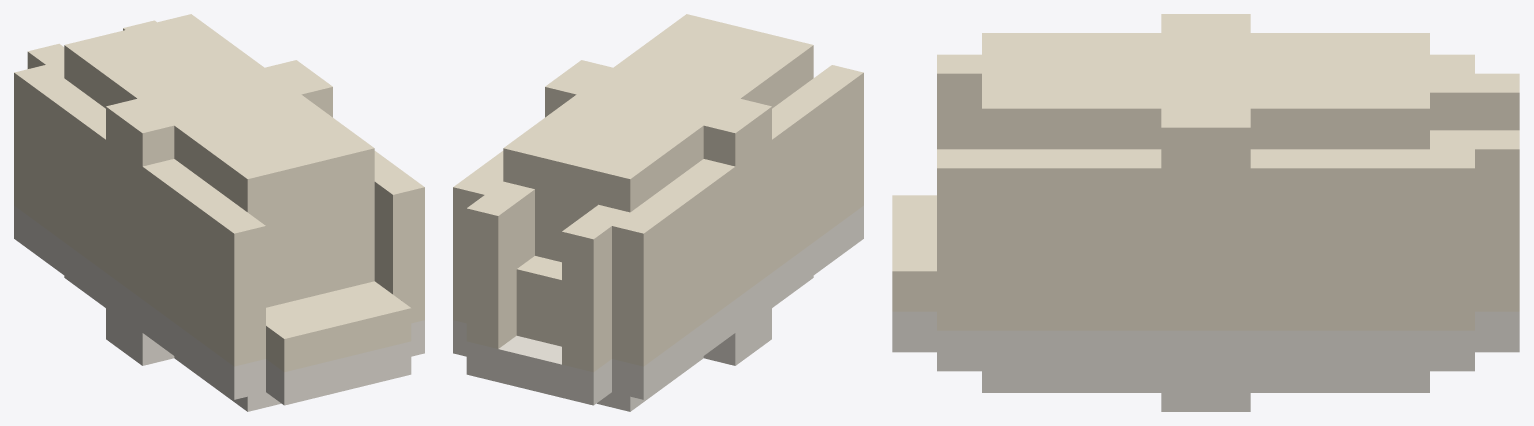
The model's file is arctic_fox__body.obj.
3 views of the same model, side by side, from view 1: azimuth 30°, elevation 25°; view 2: azimuth 150°, elevation 25°; view 3: azimuth 270°, elevation 25° (orthographic). The views are drawn at different scales.
Parts seen in each view (by area): view 1: arctic_fox__body; view 2: arctic_fox__body; view 3: arctic_fox__body.
Part boxes in pixels (left/top/right/bottom): arctic_fox__body: left=14, top=14, right=424, bottom=411; arctic_fox__body: left=453, top=14, right=863, bottom=411; arctic_fox__body: left=892, top=14, right=1519, bottom=411.
Bounding box in the file's own units: 0.6 × 0.7 × 1.4.
1 material, 1 textured.
